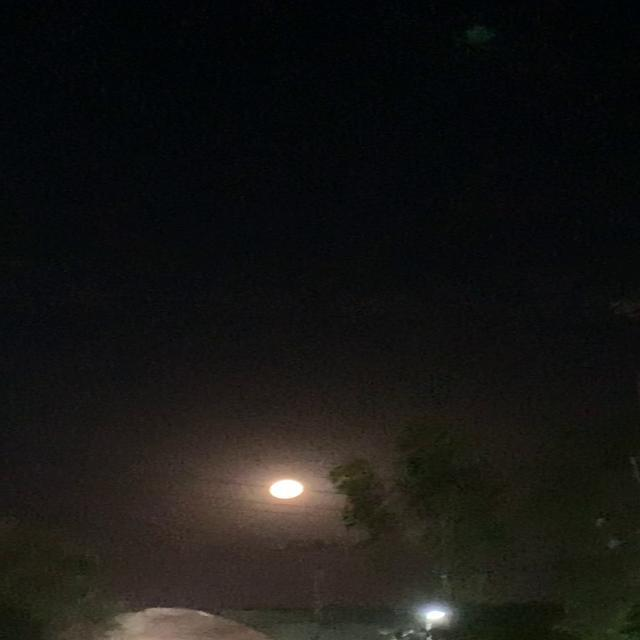moon: (248, 480, 301, 504)
